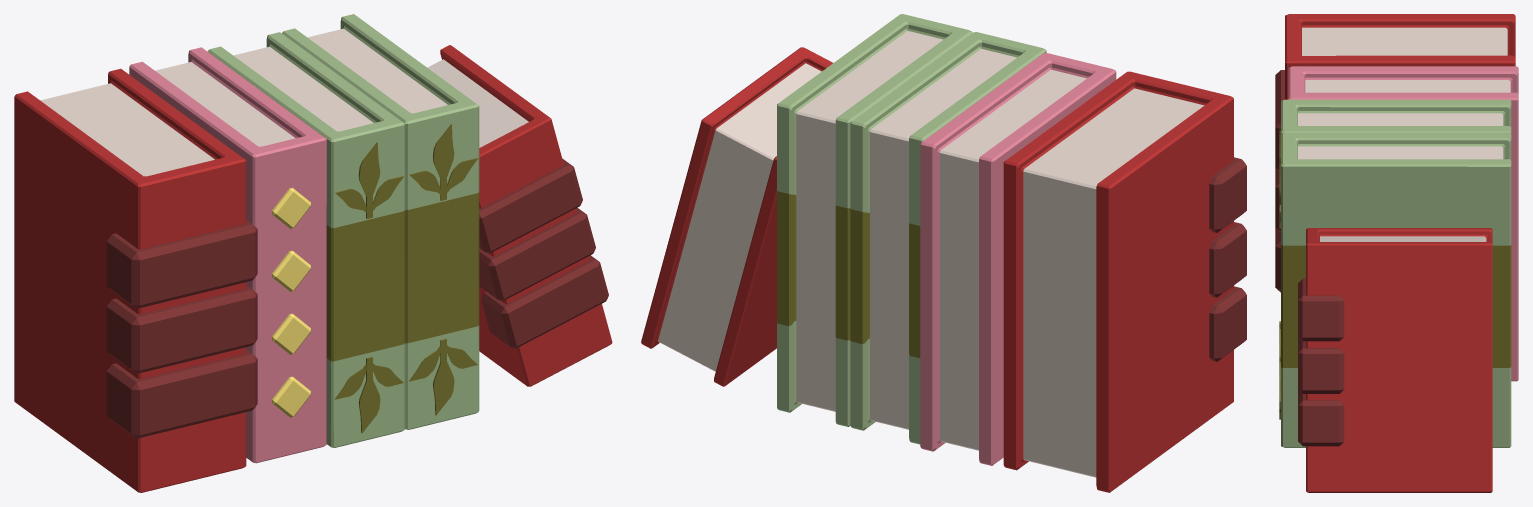
Rendered from Books_15.glb.
3 views of the same model, side by side, from view 1: azimuth 30°, elevation 25°; view 2: azimuth 150°, elevation 25°; view 3: azimuth 270°, elevation 25° (orthographic). The views are drawn at different scales.
Parts seen in each view (by area): view 1: Books_15; view 2: Books_15; view 3: Books_15.
Boxes of the visible parts, x1,y1,x2,y2 form: Books_15: (14, 14, 612, 492); Books_15: (641, 14, 1246, 492); Books_15: (1275, 14, 1518, 492).
Bounding box in the file's own units: 0.6595 × 0.3928 × 0.3057.
Materials: 1 (1 with a texture image).
